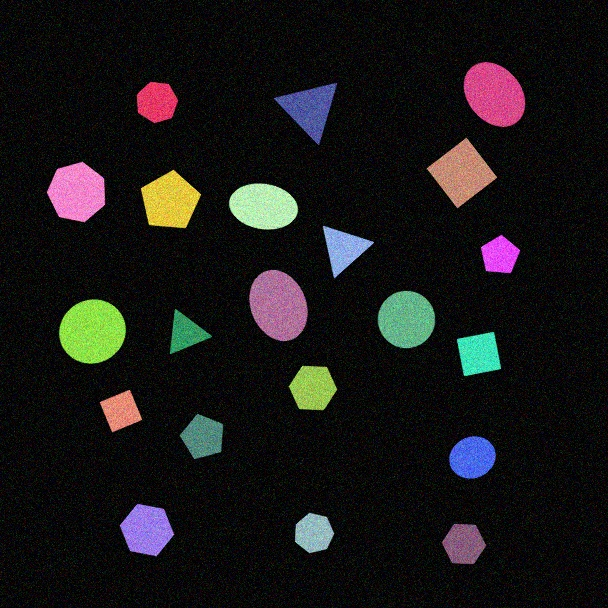Circulo: (58, 299, 127, 364), (377, 290, 436, 349), (448, 436, 497, 479)
Elipse: (249, 269, 308, 342), (463, 61, 526, 128), (228, 183, 299, 230)
Heptagono: (46, 161, 106, 223), (136, 81, 179, 124), (294, 512, 335, 554)
Hexagono: (119, 503, 175, 557), (288, 365, 338, 411), (441, 523, 487, 565)
Pentagono: (140, 169, 202, 229), (179, 413, 224, 460), (480, 234, 521, 274)
Quadrado: (426, 137, 498, 209), (456, 331, 502, 377), (99, 389, 143, 433)
Triangulo: (273, 82, 338, 146), (322, 225, 375, 279), (169, 308, 213, 355)
